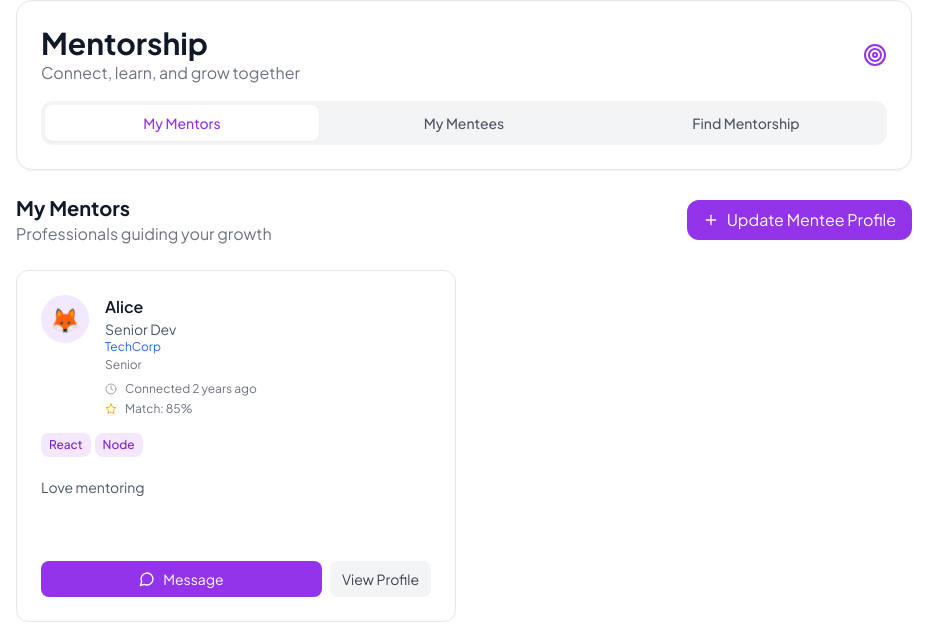
Scenario: MentorshipView › switches to My Mentees tab
The width and height of the screenshot is (929, 639).
Click the button "My Mentees".
click(464, 123)  # box [327,105,601,141]
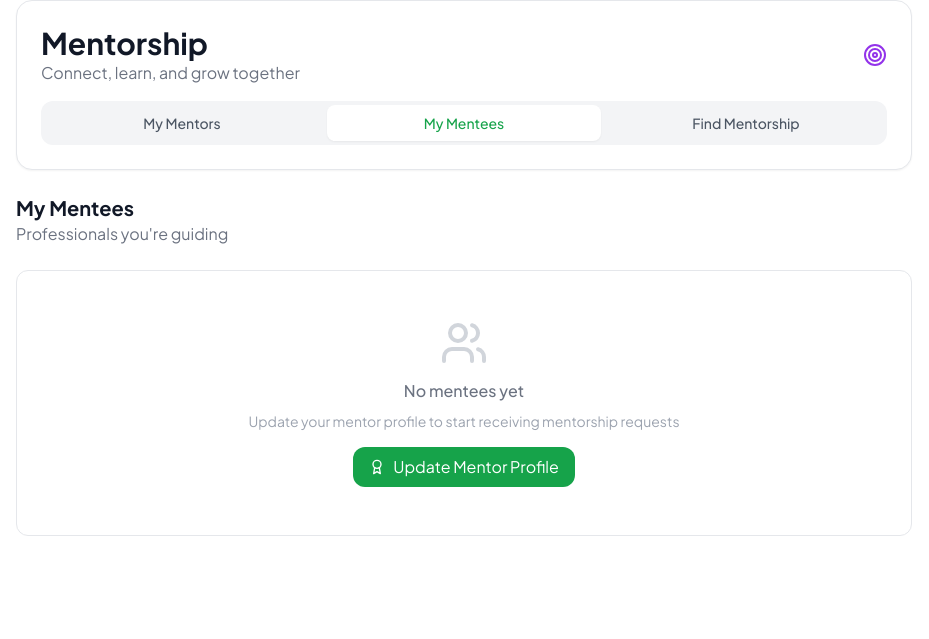
Result: the heading "No mentees yet" is shown at [404,380,524,401]
